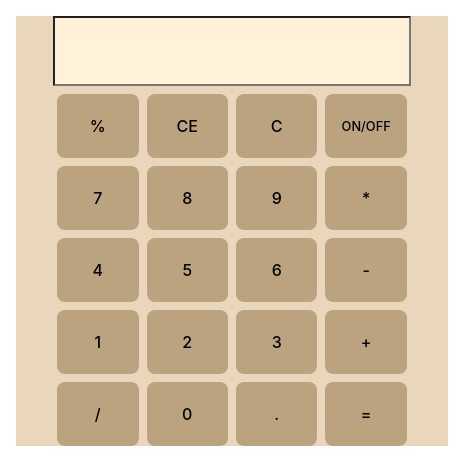
Scenario: Calculator › when click on CE, should reset the value
The width and height of the screenshot is (465, 463).
Click the button "1". click: (98,342)
box: [57,310,138,374]
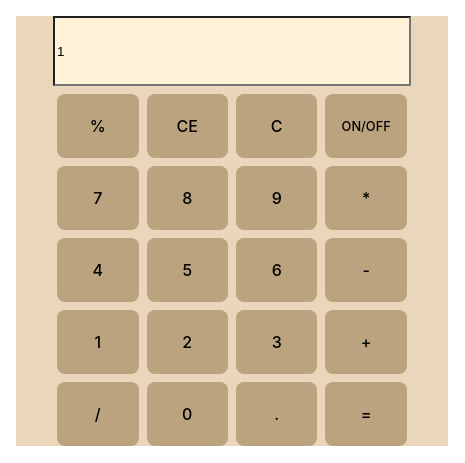
Click the button "+". click: (366,342)
box: [325,310,407,374]
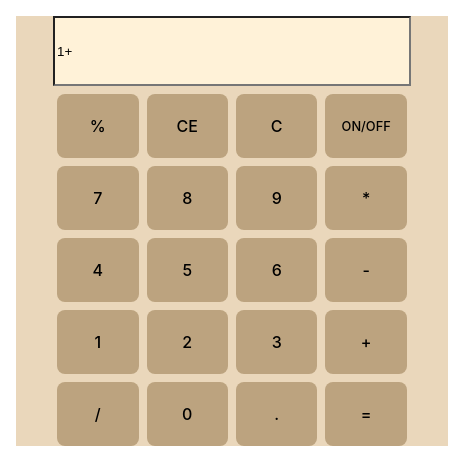
Click the button "2". click: (187,342)
box: [146,310,228,374]
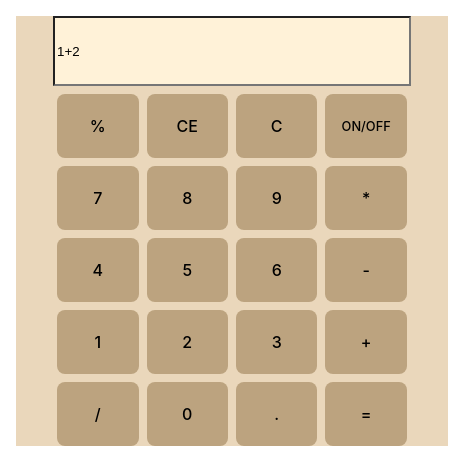
Click the button "=". click: (366,414)
box: [325,382,407,446]
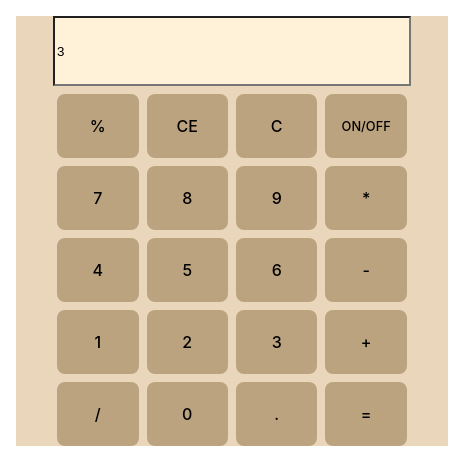
Expected: the field holds "3", [53,16,411,86]
Click the button "CE". click: (187,126)
box: [146,94,228,158]
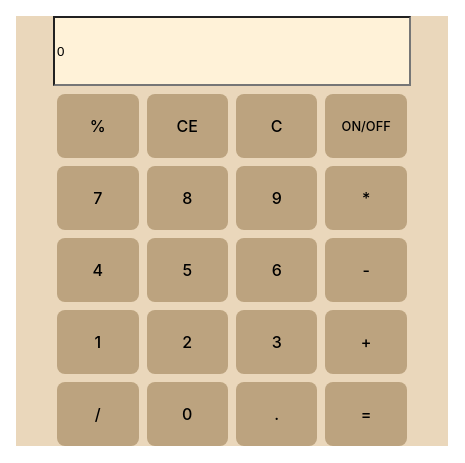
Expected: the field holds "0", [53,16,411,86]
